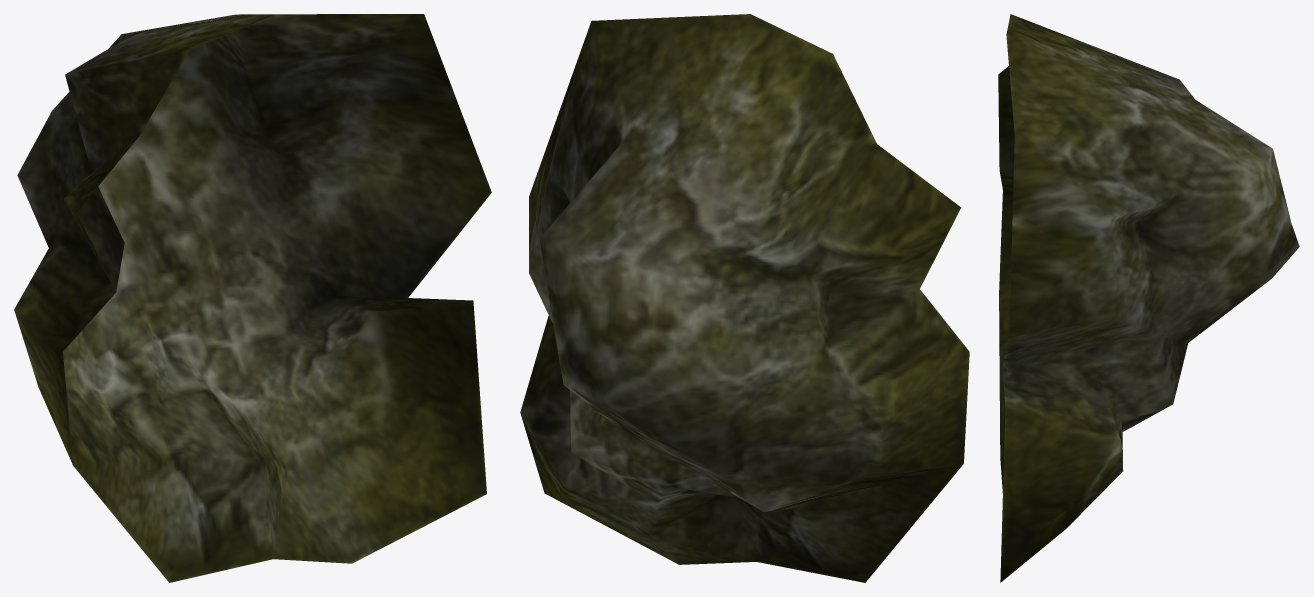
Rendered from MEP_GroundRocks_01_f.fbx.
3 views of the same model, side by side, from view 1: azimuth 30°, elevation 25°; view 2: azimuth 150°, elevation 25°; view 3: azimuth 270°, elevation 25° (orthographic). The views are drawn at different scales.
Visible parts, largest first — view 1: MEP_GroundRock_01_f; view 2: MEP_GroundRock_01_f; view 3: MEP_GroundRock_01_f.
Boxes of the visible parts, x1=… form: MEP_GroundRock_01_f: x1=14, y1=14, x2=491, y2=582; MEP_GroundRock_01_f: x1=520, y1=14, x2=969, y2=582; MEP_GroundRock_01_f: x1=998, y1=14, x2=1299, y2=582.
Size of the model in its own units: 1.97 by 2.45 by 1.36.
